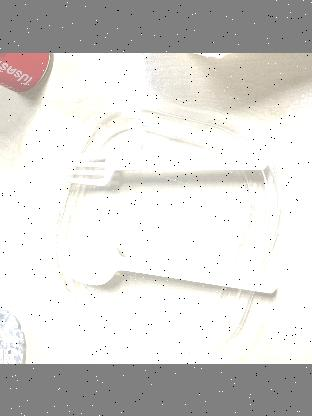Others: (52, 227, 286, 299), (47, 136, 273, 198)
